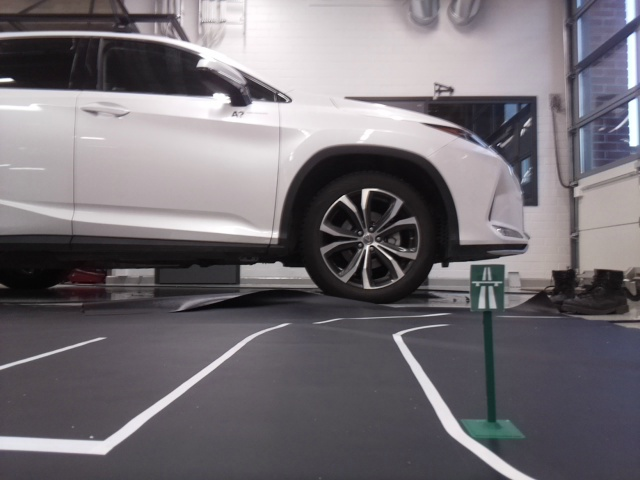HighwayEntrance: (471, 265, 502, 311)
